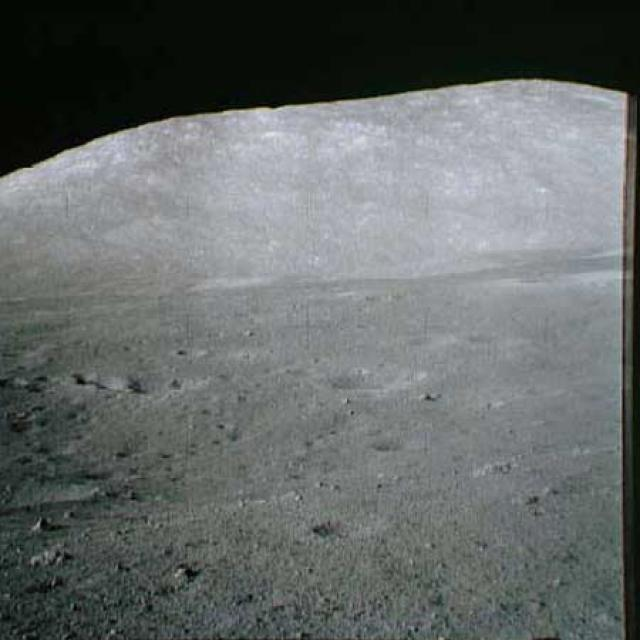crater: (307, 354, 430, 398), (80, 372, 210, 404)
